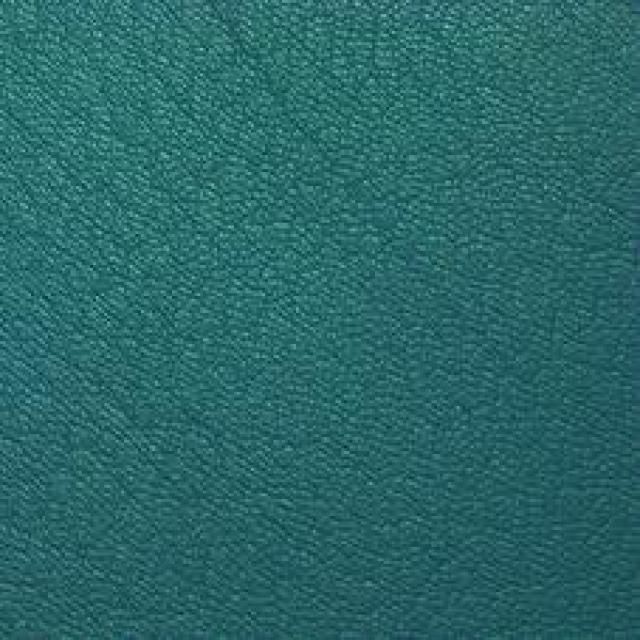Growth Marks: (56, 117, 207, 406), (228, 41, 380, 212)
